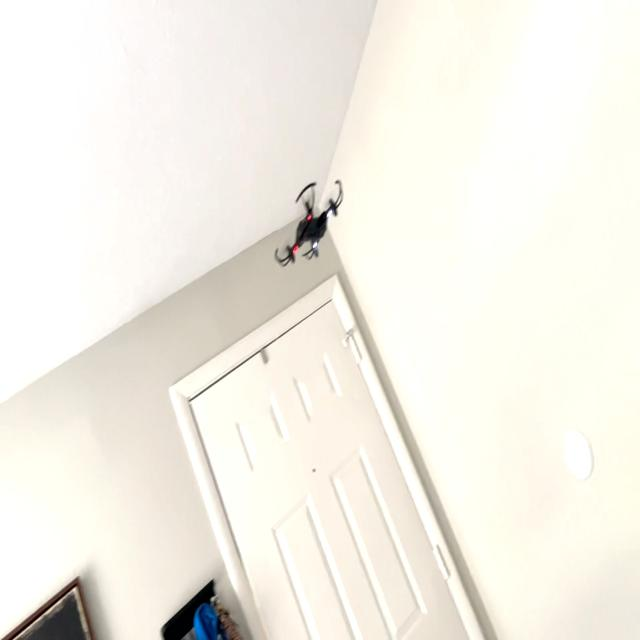drone: (272, 171, 349, 276)
